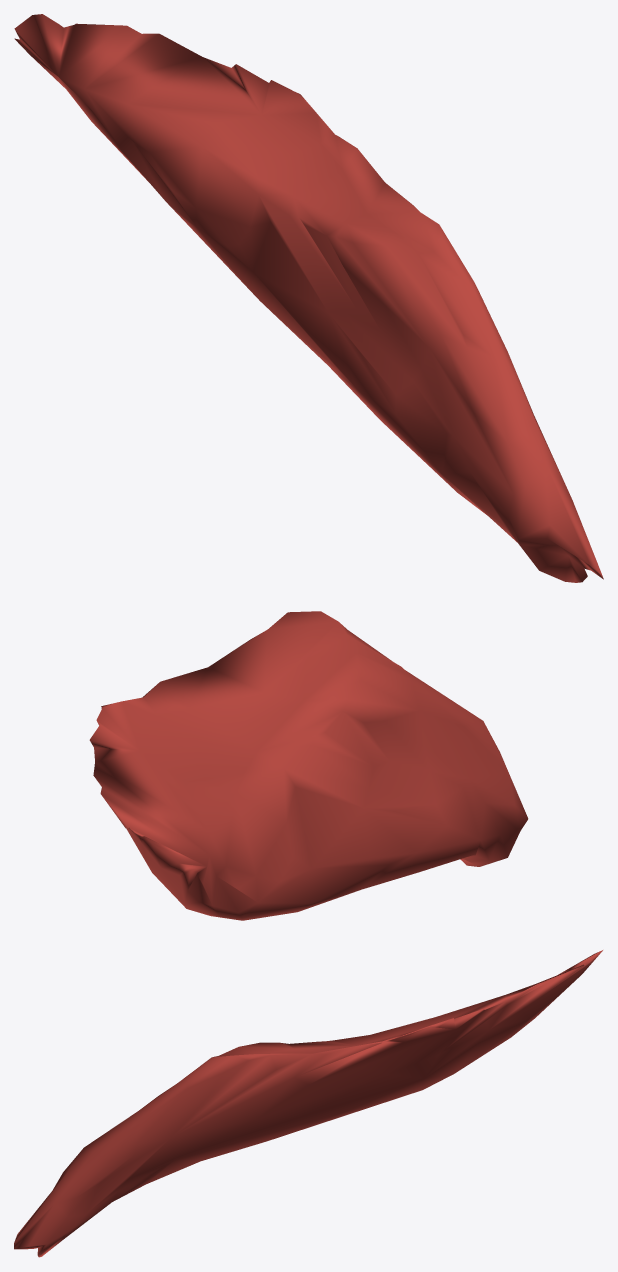
File: musculos-obliquus-superior-capitis-muscle-l.glb
3 views of the same model, one above another, from view 1: azimuth 30°, elevation 25°; view 2: azimuth 150°, elevation 25°; view 3: azimuth 270°, elevation 25° (orthographic). The views are drawn at different scales.
Parts seen in each view (by area): view 1: Obliquus superior capitis muscle.l; view 2: Obliquus superior capitis muscle.l; view 3: Obliquus superior capitis muscle.l.
Boxes of the visible parts, x1,y1,x2,y2 form: Obliquus superior capitis muscle.l: (14, 14, 603, 582); Obliquus superior capitis muscle.l: (89, 611, 528, 920); Obliquus superior capitis muscle.l: (14, 950, 602, 1257).
Bounding box in the file's own units: 0.0143 × 0.0229 × 0.0495.
